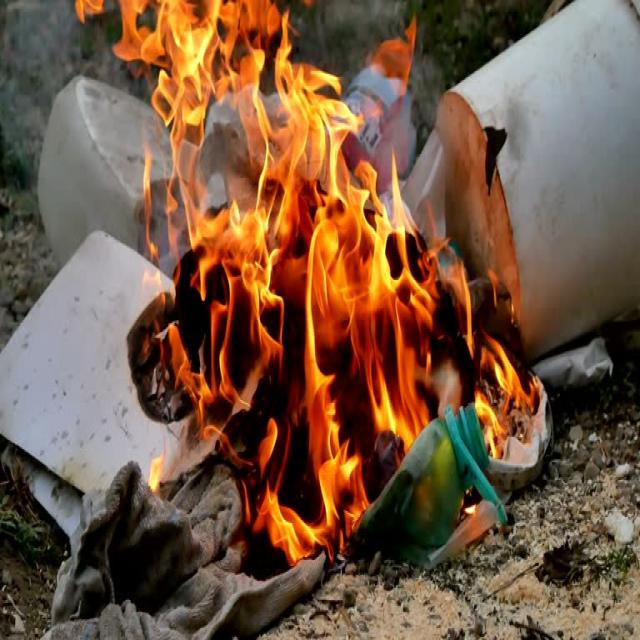fire: (315, 194, 384, 375), (252, 480, 334, 568), (395, 294, 433, 435), (242, 258, 284, 384), (303, 220, 337, 373), (272, 96, 308, 240), (482, 329, 540, 415), (318, 436, 371, 525), (167, 127, 205, 250), (318, 98, 358, 195), (239, 55, 273, 166), (165, 1, 214, 68), (175, 361, 213, 444), (226, 211, 270, 272), (393, 225, 430, 296), (306, 373, 341, 441), (204, 425, 253, 471), (367, 212, 394, 294), (142, 140, 159, 264), (187, 205, 231, 252), (373, 37, 415, 84), (151, 69, 185, 127), (275, 8, 293, 112), (210, 302, 229, 399), (367, 375, 397, 435), (418, 235, 451, 288), (292, 62, 342, 96), (309, 101, 325, 207), (112, 0, 140, 59), (184, 70, 213, 126), (390, 145, 409, 228), (240, 0, 280, 39), (355, 160, 385, 212), (141, 0, 165, 64), (460, 259, 474, 360), (256, 417, 278, 479), (483, 347, 511, 395), (215, 0, 238, 58), (476, 390, 504, 435), (216, 58, 240, 110)
